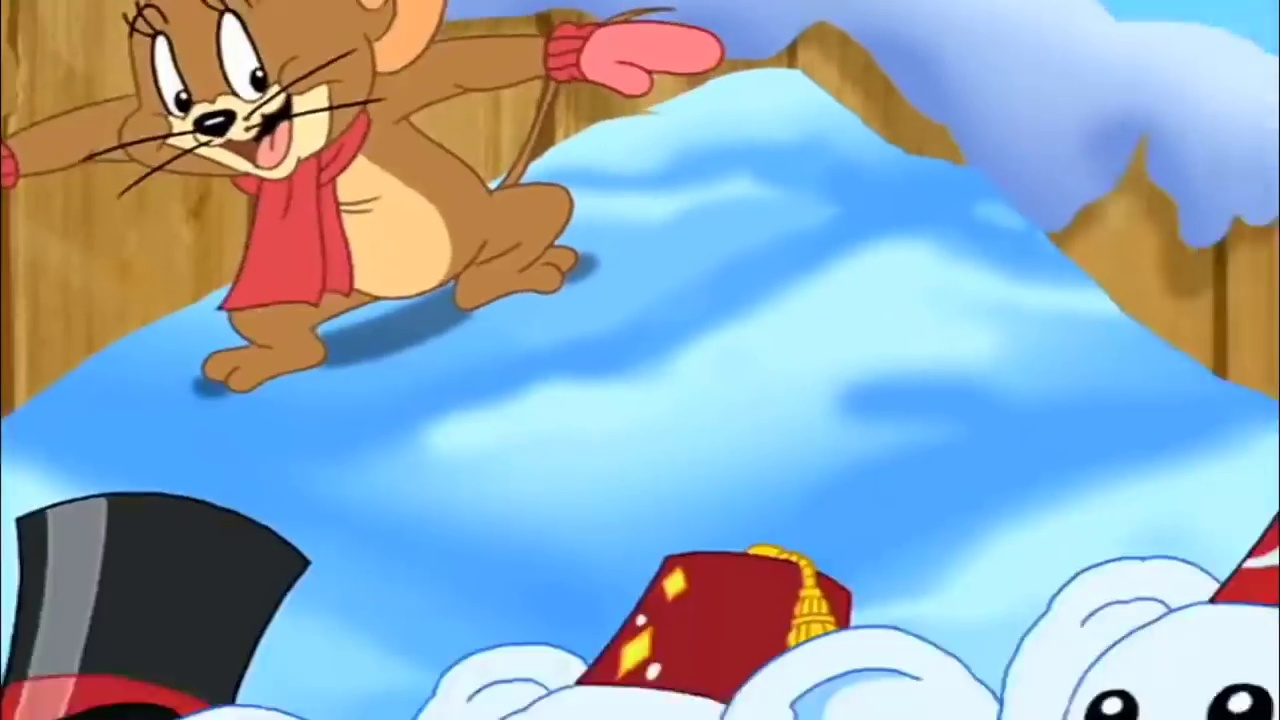face: (131, 3, 351, 181)
